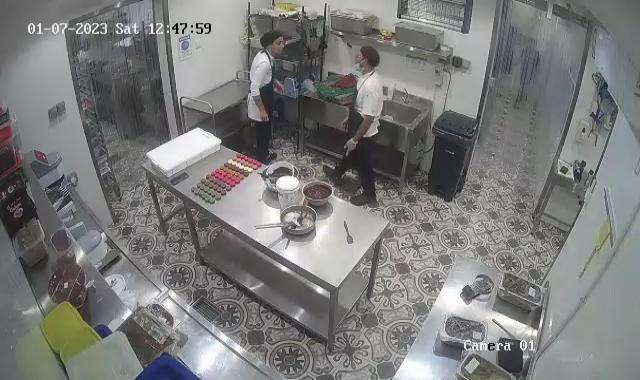no_hairnet: (358, 46, 380, 72), (260, 30, 284, 51)
